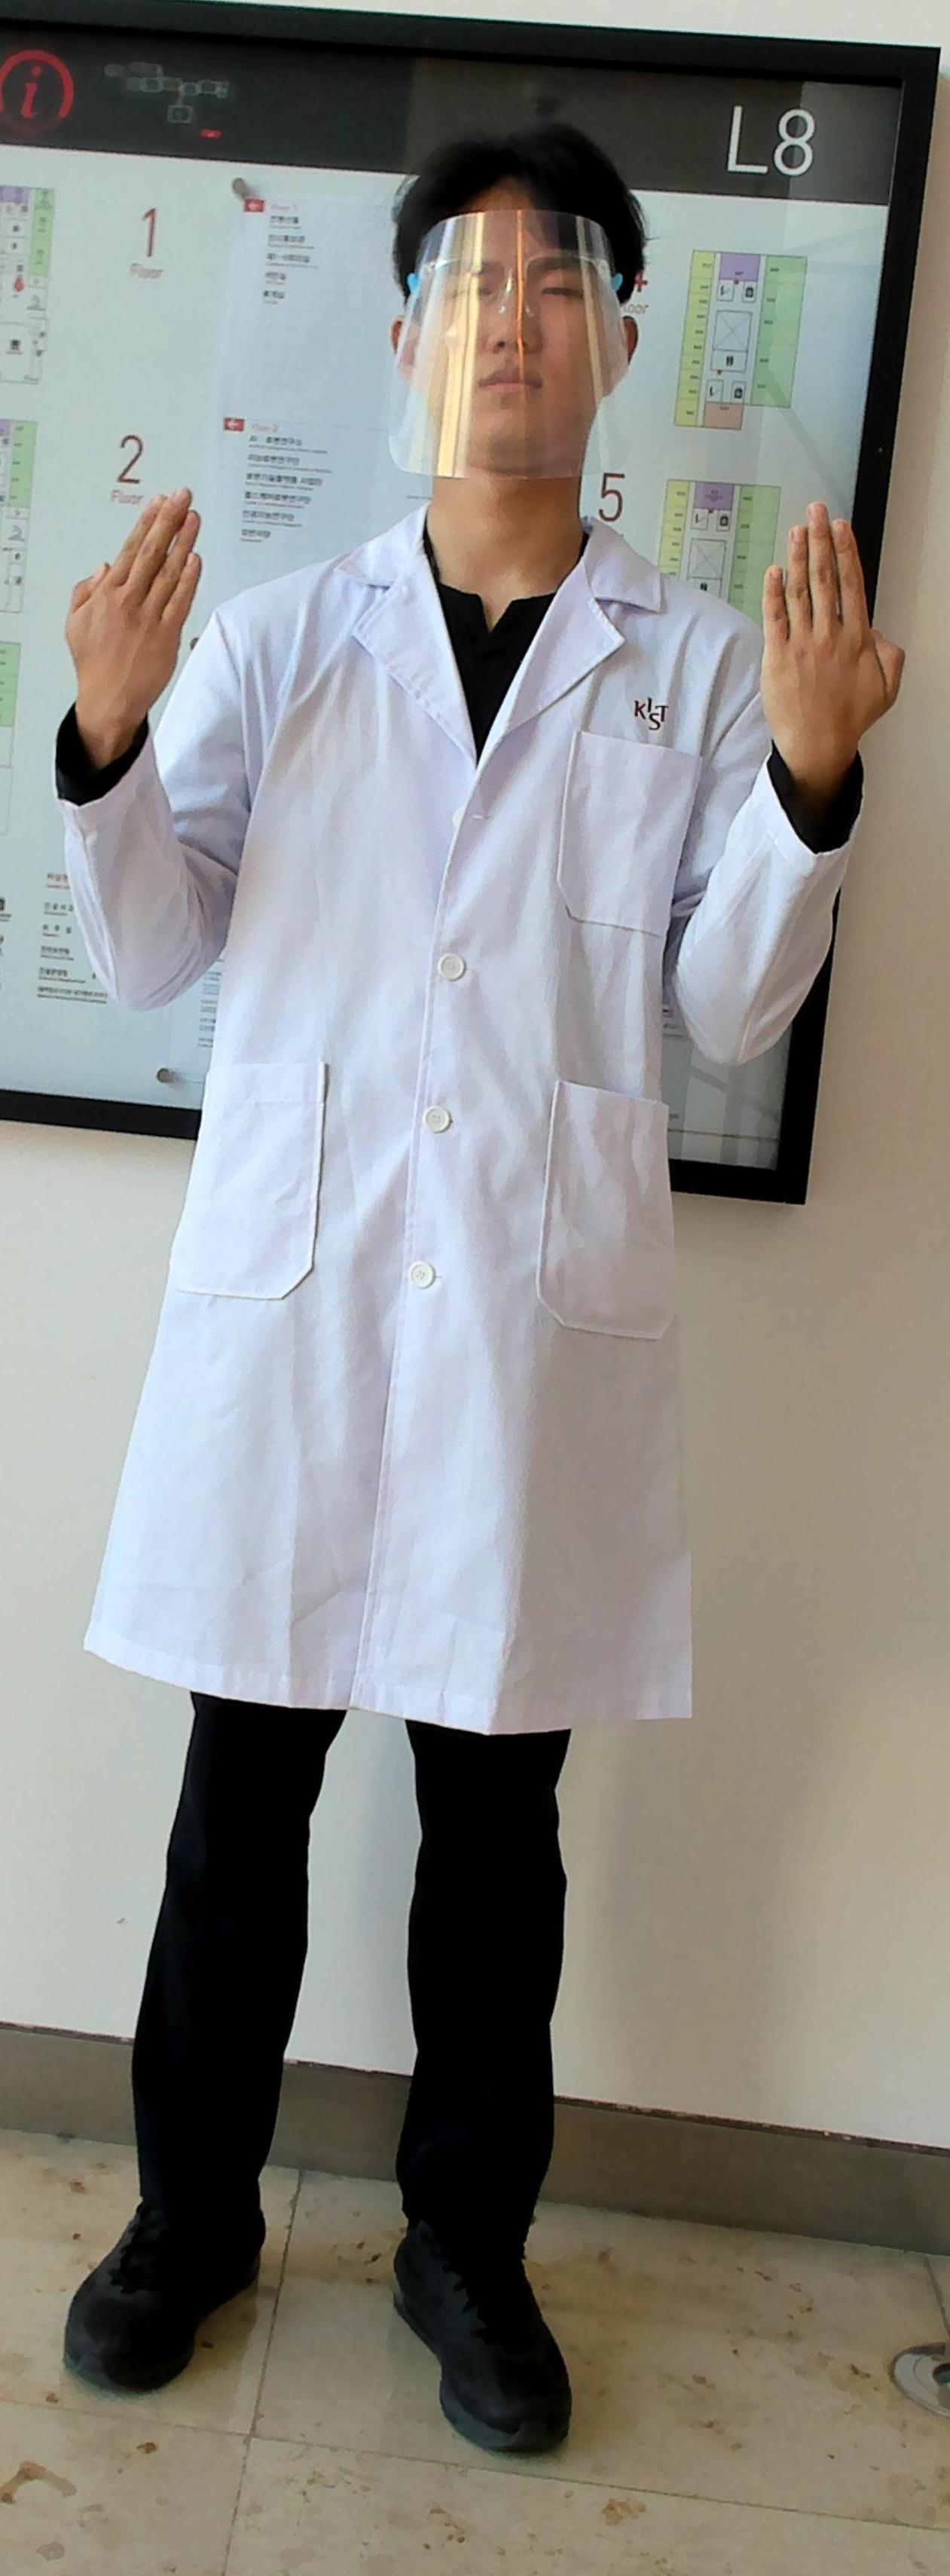lab_coat: (178, 624, 748, 1699)
